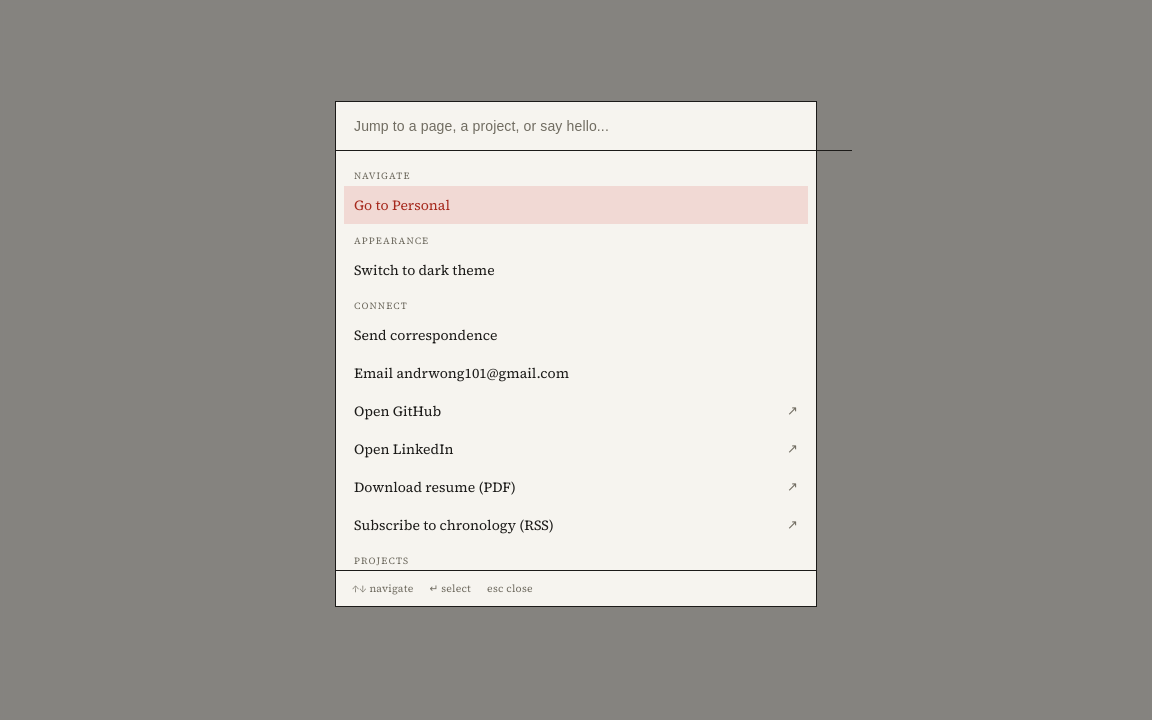
Test: CommandPalette › shows "No matches." for a query that matches nothing
In the dropdown: point(594, 126) [336,102,852,151], type "xyzzy"
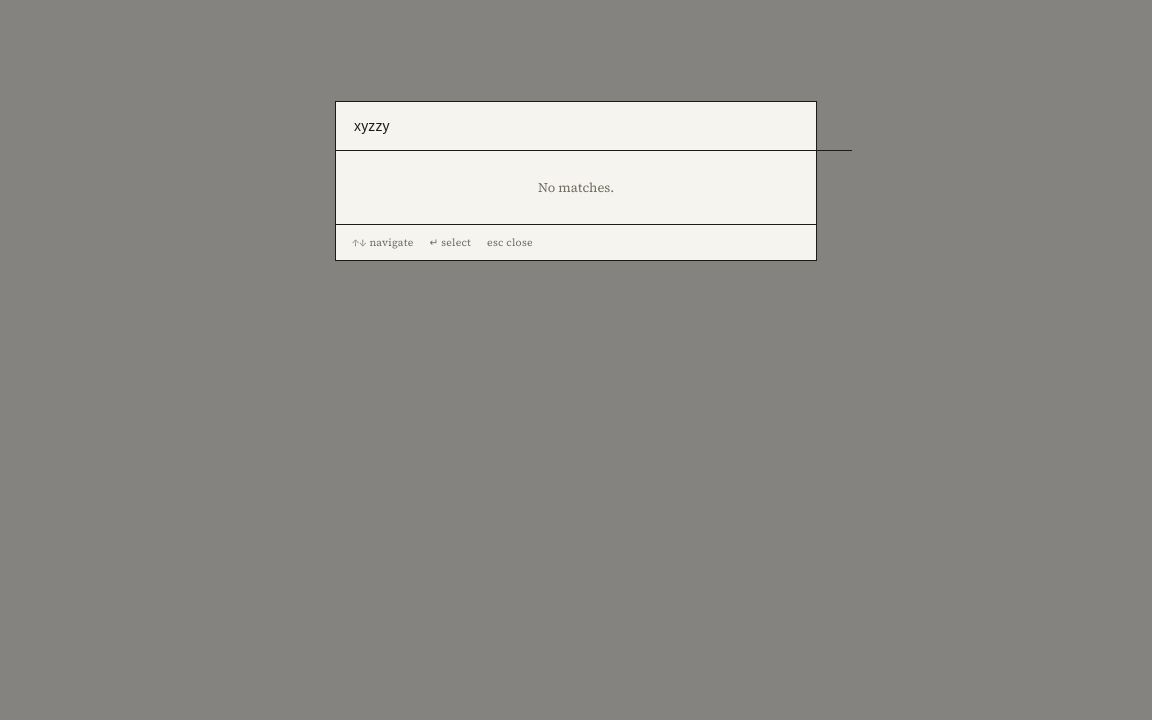
expect the text "No matches." is shown: met, box [538,179,614,196]
